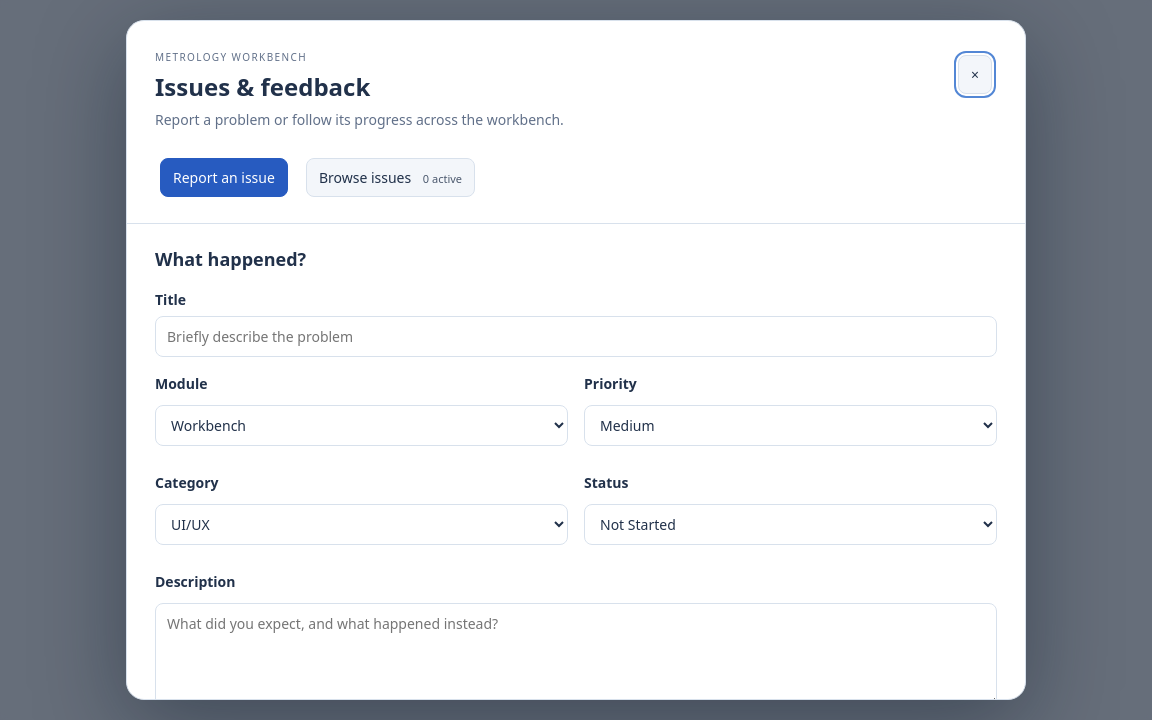
it: Workbench issue tracker › filters existing reports and requires the inline confirmation before deletion
This screenshot has width=1152, height=720.
Step 1. Click the button "Browse issues 0 active" → [390, 178], box [306,158,475,197]
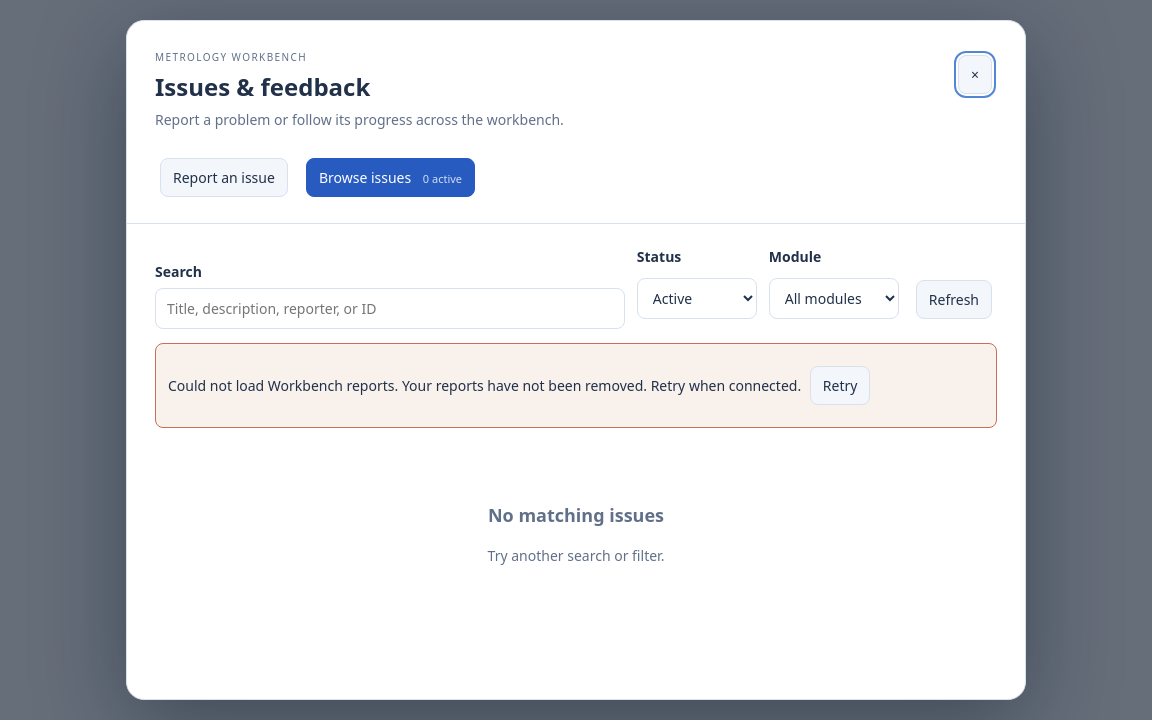
Check: the text "Old report" is not shown
Check: the text "Could not load Workbench reports" is shown, box [168,376,801,395]
Step 2. Select "All statuses" in the dropdown labelled "Status" → [697, 298], box [637,278,757,319]
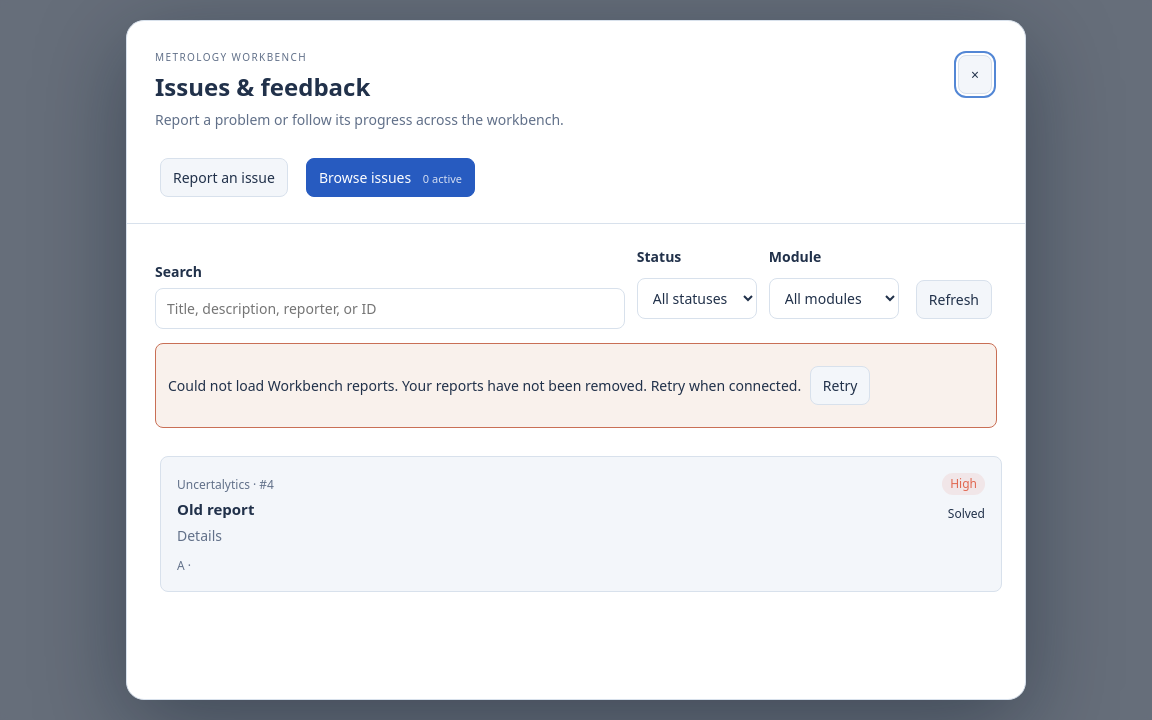
Step 3. Click the text "Old report" → [216, 509], box [177,499,254,519]
(page scrolled)
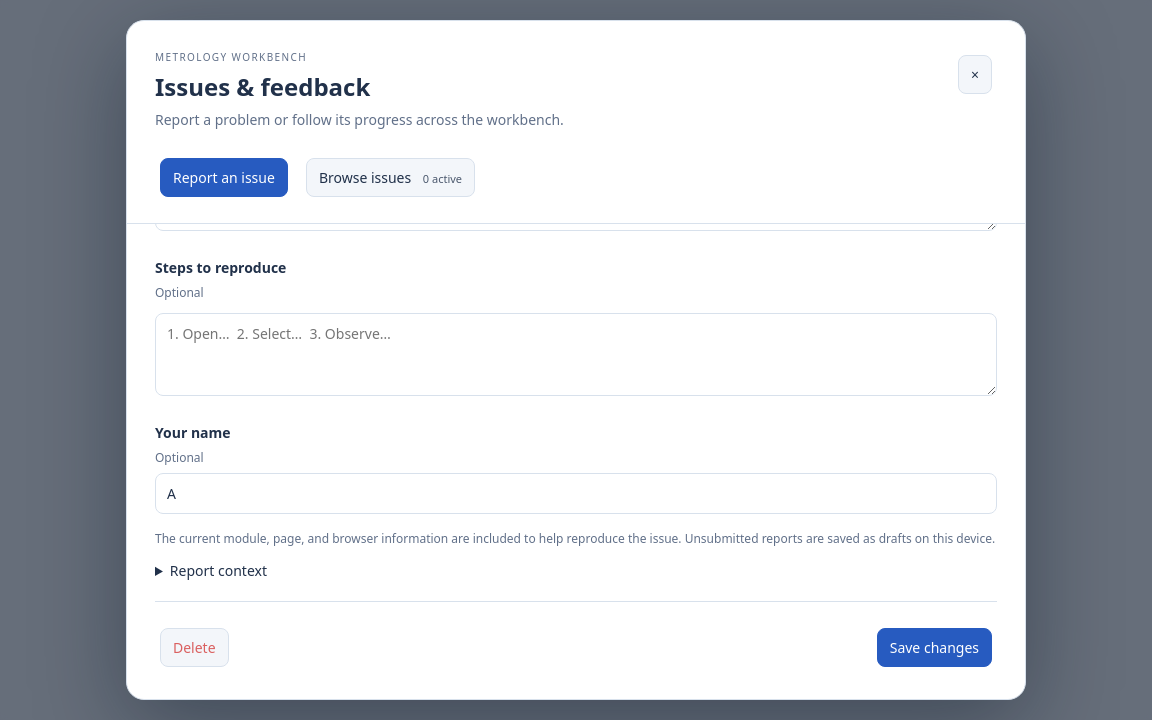
Step 4. Click the button "Delete" → [194, 648], box [160,628,229,667]
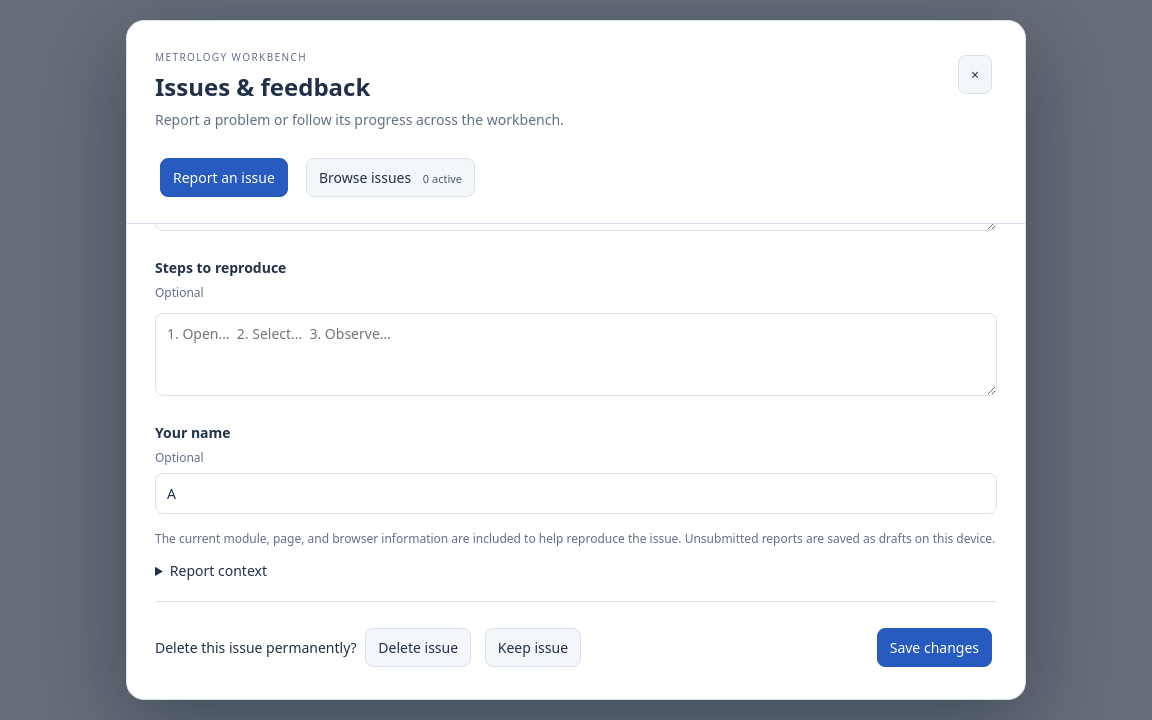
Step 5. Click the button "Delete issue" → [418, 648], box [365,628,471,667]
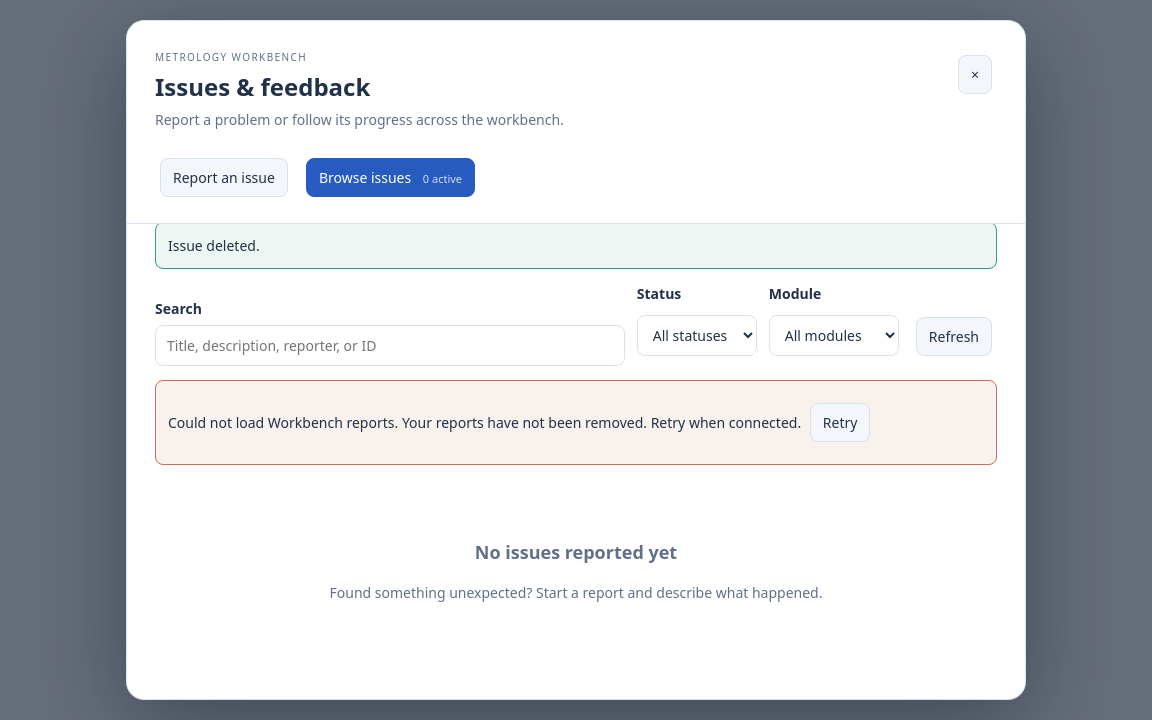
Check: the text "Issue deleted." is shown, box [155,224,997,269]
